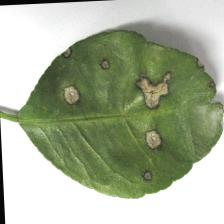canker: (51, 35, 218, 188)
